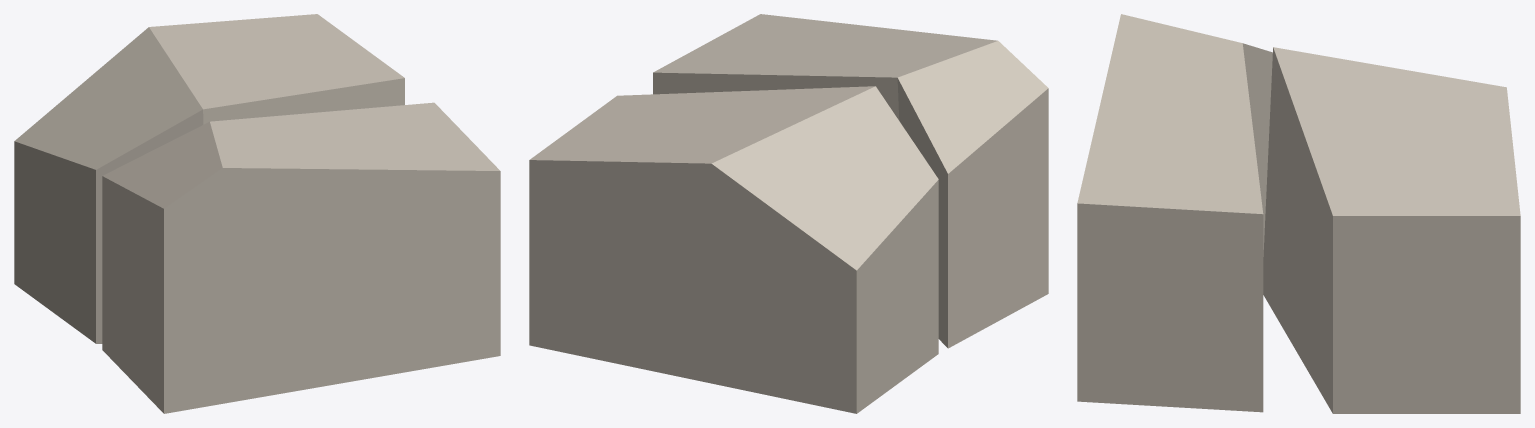
File: Rock_Square_crk_s_04.fbx
The picture shows the model from 3 angles, left to right: view 1: azimuth 30°, elevation 25°; view 2: azimuth 150°, elevation 25°; view 3: azimuth 270°, elevation 25°; orthographic projection. The views are drawn at different scales.
Parts seen in each view (by area): view 1: Rock_Square_crk_s_04; view 2: Rock_Square_crk_s_04; view 3: Rock_Square_crk_s_04.
Boxes of the visible parts, <box> form: Rock_Square_crk_s_04: <box>14,14,500,413</box>; Rock_Square_crk_s_04: <box>529,14,1048,413</box>; Rock_Square_crk_s_04: <box>1077,14,1520,413</box>.
Size of the model in its own units: 40.74 by 27.36 by 43.47.
